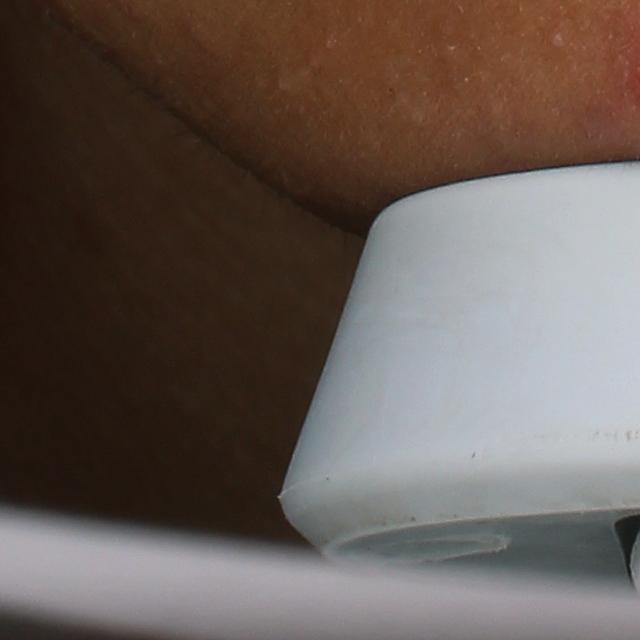comedo: (543, 27, 573, 61)
